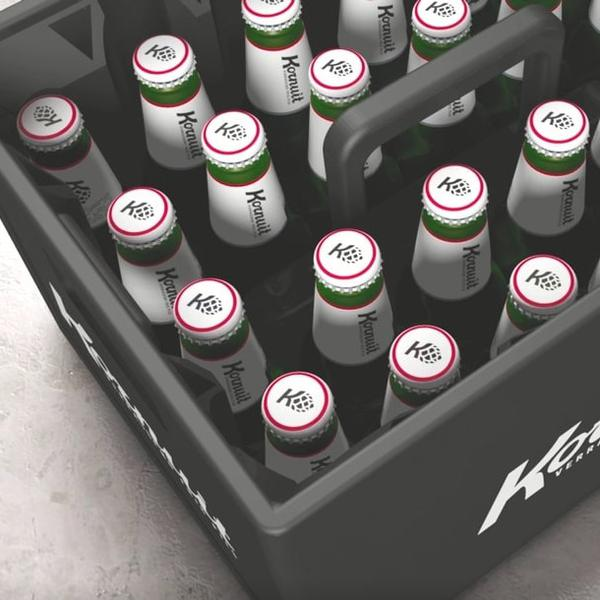kornuit: (385, 317, 463, 393), (259, 367, 334, 441), (172, 275, 245, 344), (101, 185, 180, 247), (310, 225, 384, 290), (506, 251, 578, 316), (199, 106, 268, 171), (12, 91, 84, 153), (422, 163, 488, 222), (523, 95, 592, 151), (131, 32, 197, 90), (307, 45, 370, 99)
